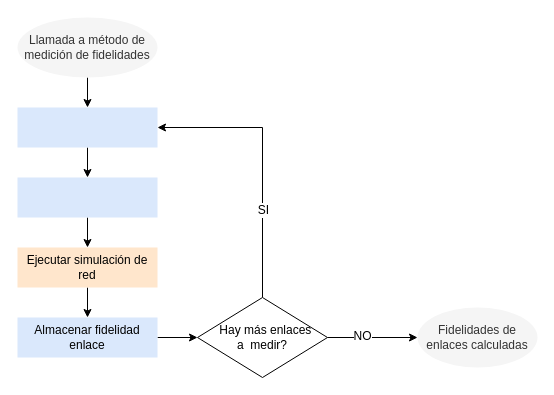
This 554x395 diagram has some shape labels left out. Each missing label, with the centre of its shape:
"Añadir protocolo de medición de fidelidad" belongs at (x=87, y=197).
"Leer propiedades del enlace" belongs at (x=87, y=127).
